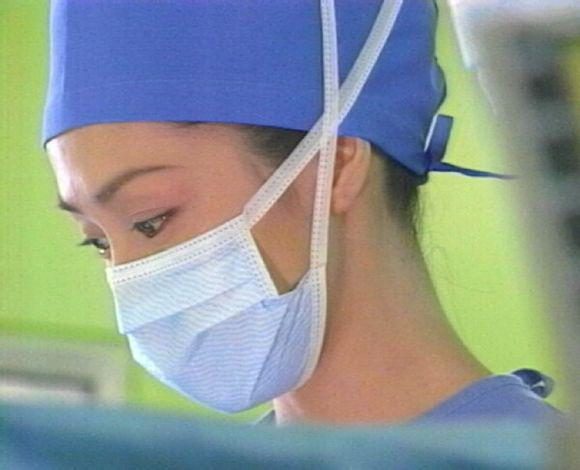OK: (67, 142, 321, 409)
